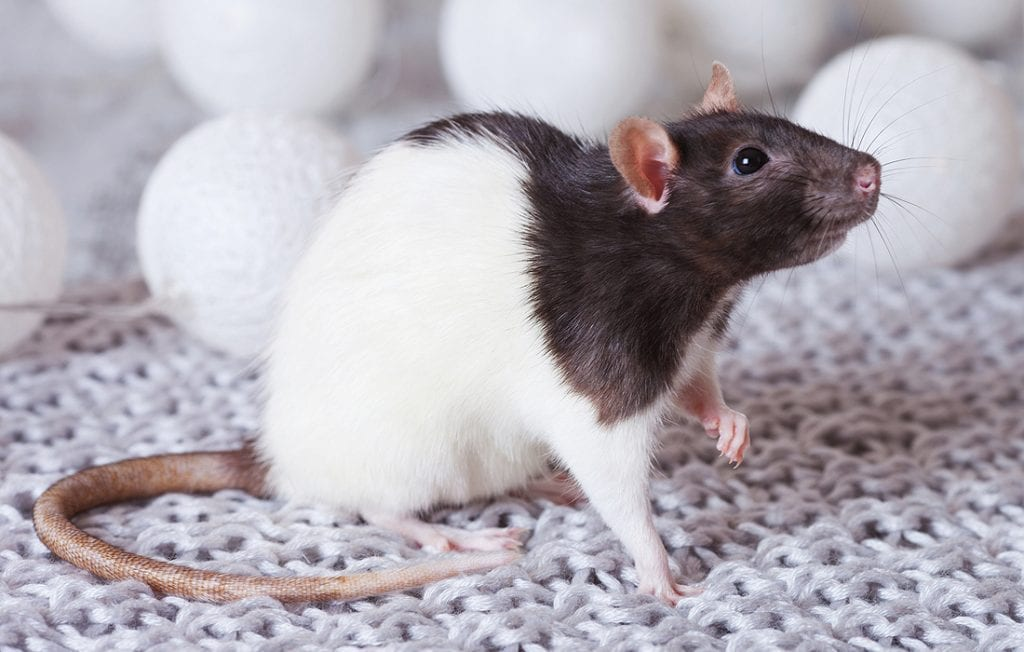Rat: (214, 59, 908, 585)
